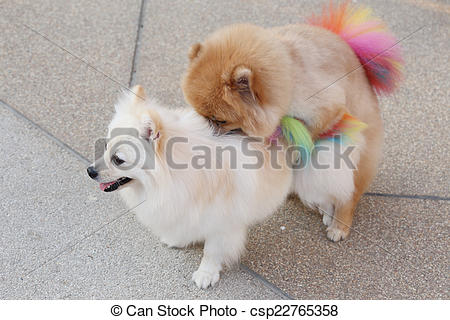pomeranian: (81, 94, 253, 288), (181, 22, 383, 146)
